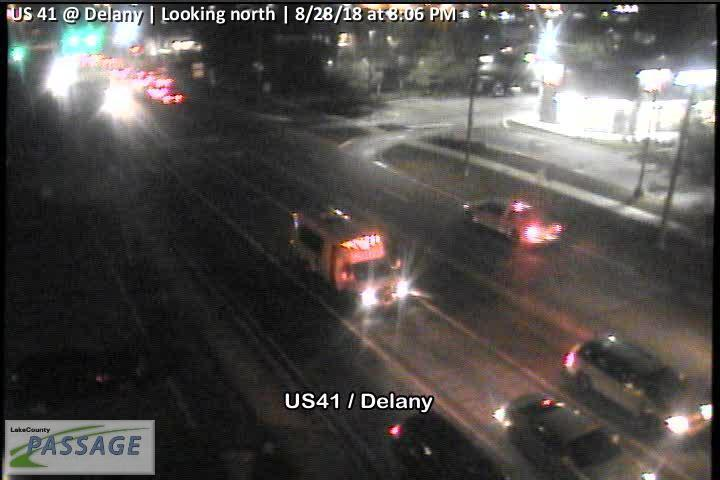SUV: (560, 331, 711, 443), (502, 392, 656, 480), (387, 410, 501, 480)
Sedan: (463, 195, 566, 247)
Truck: (289, 205, 409, 310)
